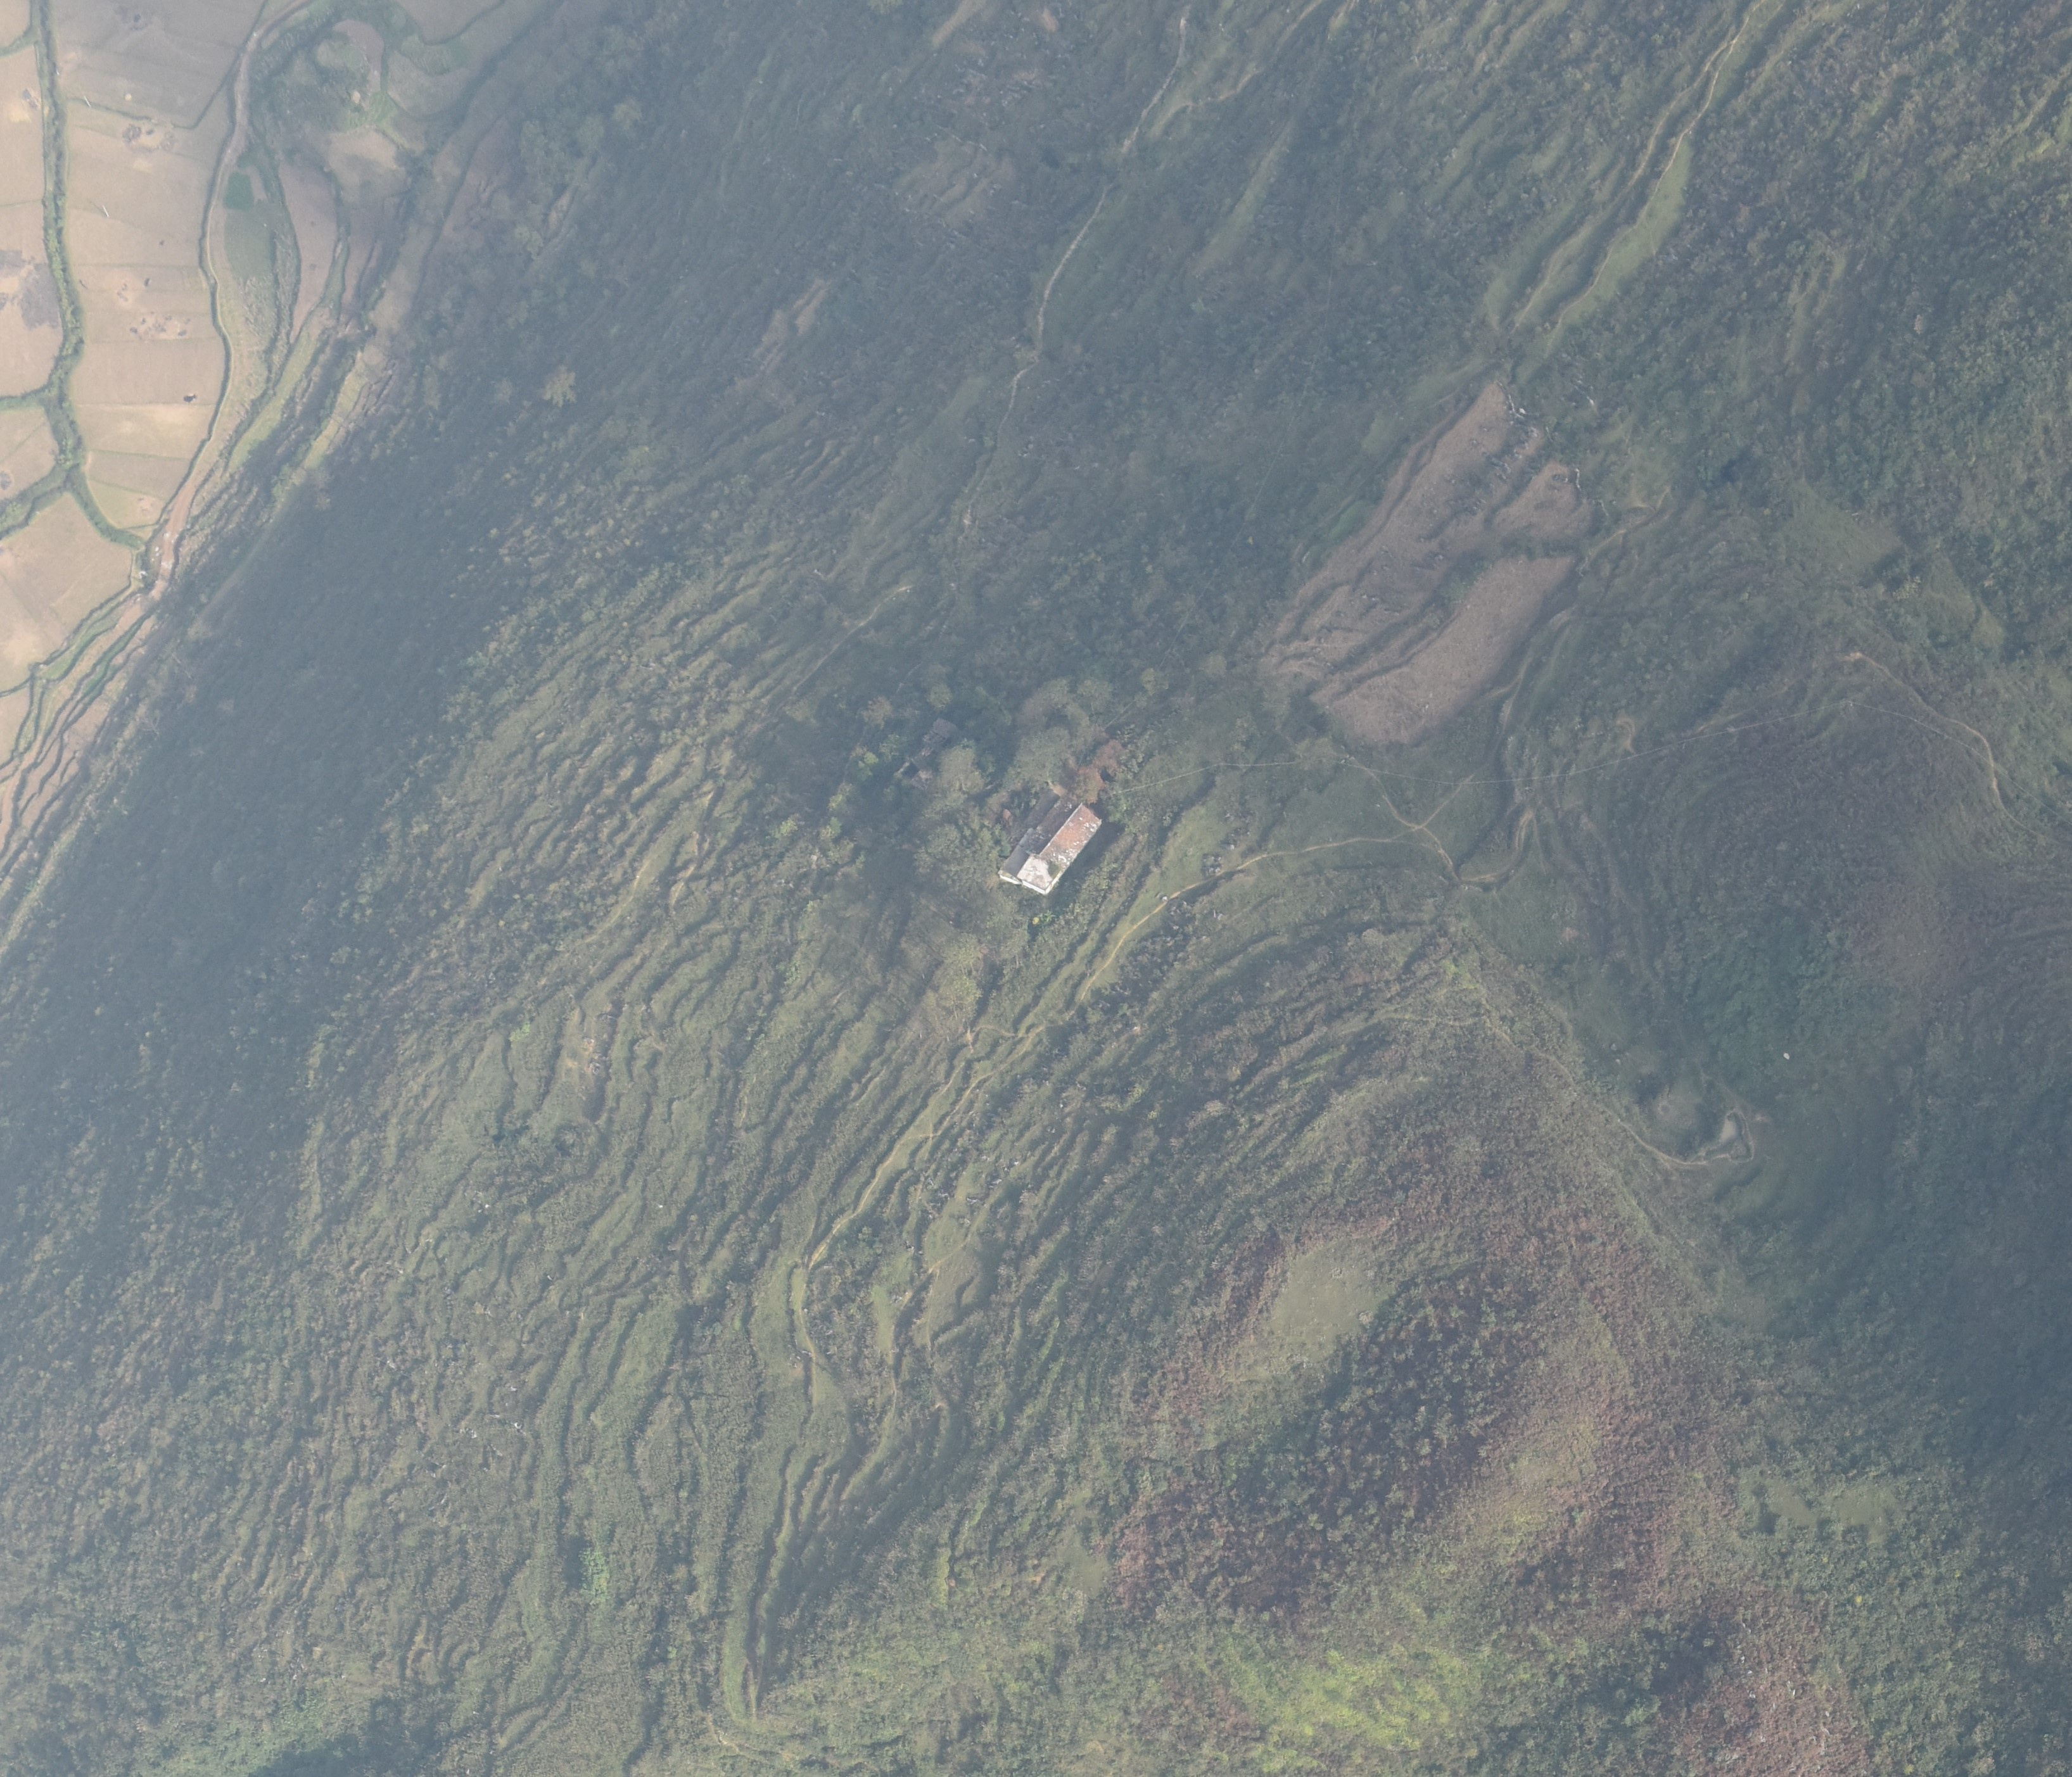building: (1018, 801, 1103, 894)
